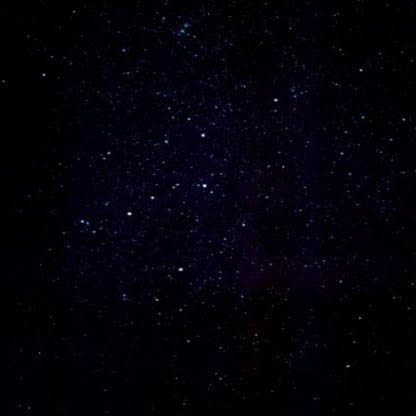Cassiopeia: (121, 187, 161, 225), (262, 87, 291, 117), (169, 255, 190, 282), (194, 170, 214, 197), (192, 127, 211, 147)
